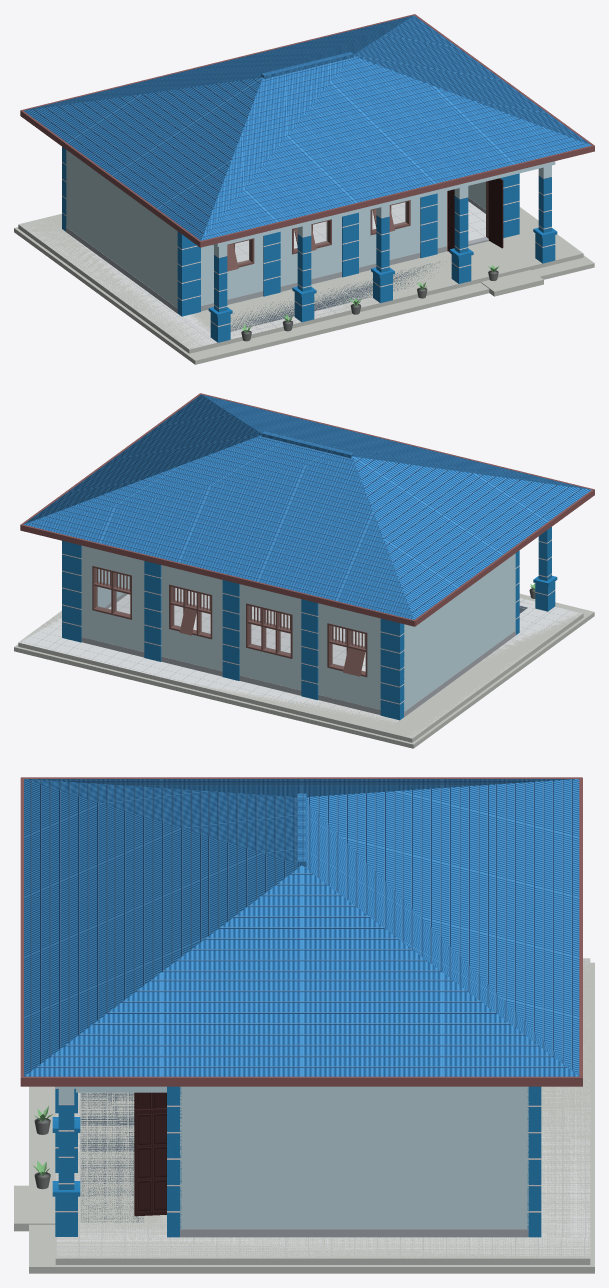
Rendered from lab_perakitan_2.glb.
3 views of the same model, one above another, from view 1: azimuth 30°, elevation 25°; view 2: azimuth 150°, elevation 25°; view 3: azimuth 270°, elevation 25° (orthographic). The views are drawn at different scales.
Visible parts, largest first — view 1: Atap_Genteng_Metal_Biru, Curb_Dan_Tangga_Beton, Dinding_Biru_Muda_Perakitan2, Pilaster_Dan_Tiang_Biru_Cerulean, Lisplang_Marun_Atap, Selasar_Keramik_Putih_Keliling, Koridor_Putih_Slate_Putih, Plint_Dinding_Abu, Kusen_Coklat_Gelap, Lantai_1_Kelas_Kosong, Daun_Pintu_Marun_6Panel, Kaca_Jendela_Transparan (+1 smaller); view 2: Atap_Genteng_Metal_Biru, Dinding_Biru_Muda_Perakitan2, Curb_Dan_Tangga_Beton, Pilaster_Dan_Tiang_Biru_Cerulean, Selasar_Keramik_Putih_Keliling, Kusen_Coklat_Gelap, Lisplang_Marun_Atap, Kaca_Jendela_Transparan, Lantai_1_Kelas_Kosong, Plint_Dinding_Abu; view 3: Atap_Genteng_Metal_Biru, Dinding_Biru_Muda_Perakitan2, Curb_Dan_Tangga_Beton, Selasar_Keramik_Putih_Keliling, Lisplang_Marun_Atap, Pilaster_Dan_Tiang_Biru_Cerulean, Koridor_Putih_Slate_Putih, Daun_Pintu_Marun_6Panel, Plint_Dinding_Abu.
Part boxes in pixels (left/top/right/bottom): Atap_Genteng_Metal_Biru: left=23, top=15, right=591, bottom=240; Curb_Dan_Tangga_Beton: left=14, top=207, right=594, bottom=364; Dinding_Biru_Muda_Perakitan2: left=66, top=150, right=555, bottom=307; Pilaster_Dan_Tiang_Biru_Cerulean: left=62, top=147, right=557, bottom=342; Lisplang_Marun_Atap: left=20, top=14, right=594, bottom=247; Selasar_Keramik_Putih_Keliling: left=19, top=217, right=579, bottom=349; Koridor_Putih_Slate_Putih: left=230, top=258, right=536, bottom=337; Plint_Dinding_Abu: left=66, top=197, right=488, bottom=313; Kusen_Coklat_Gelap: left=227, top=181, right=488, bottom=271; Lantai_1_Kelas_Kosong: left=235, top=201, right=485, bottom=262; Daun_Pintu_Marun_6Panel: left=448, top=178, right=503, bottom=253; Kaca_Jendela_Transparan: left=235, top=202, right=405, bottom=263; Atap_Genteng_Metal_Biru: left=23, top=394, right=591, bottom=619; Dinding_Biru_Muda_Perakitan2: left=81, top=545, right=515, bottom=711; Curb_Dan_Tangga_Beton: left=14, top=593, right=594, bottom=748; Pilaster_Dan_Tiang_Biru_Cerulean: left=62, top=527, right=557, bottom=720; Selasar_Keramik_Putih_Keliling: left=18, top=603, right=582, bottom=738; Kusen_Coklat_Gelap: left=92, top=566, right=367, bottom=677; Lisplang_Marun_Atap: left=20, top=393, right=594, bottom=626; Kaca_Jendela_Transparan: left=96, top=569, right=364, bottom=667; Lantai_1_Kelas_Kosong: left=108, top=588, right=365, bottom=671; Plint_Dinding_Abu: left=81, top=593, right=515, bottom=717; Atap_Genteng_Metal_Biru: left=24, top=779, right=579, bottom=1076; Dinding_Biru_Muda_Perakitan2: left=55, top=1086, right=528, bottom=1228; Curb_Dan_Tangga_Beton: left=14, top=958, right=594, bottom=1273; Selasar_Keramik_Putih_Keliling: left=55, top=958, right=590, bottom=1259; Lisplang_Marun_Atap: left=20, top=777, right=582, bottom=1086; Pilaster_Dan_Tiang_Biru_Cerulean: left=52, top=1086, right=541, bottom=1237; Koridor_Putih_Slate_Putih: left=56, top=1092, right=166, bottom=1222; Daun_Pintu_Marun_6Panel: left=134, top=1092, right=166, bottom=1216; Plint_Dinding_Abu: left=180, top=1229, right=528, bottom=1237.
Size of the model in its own units: 12.06 by 5.43 by 9.73.
17 materials, 7 textured.
